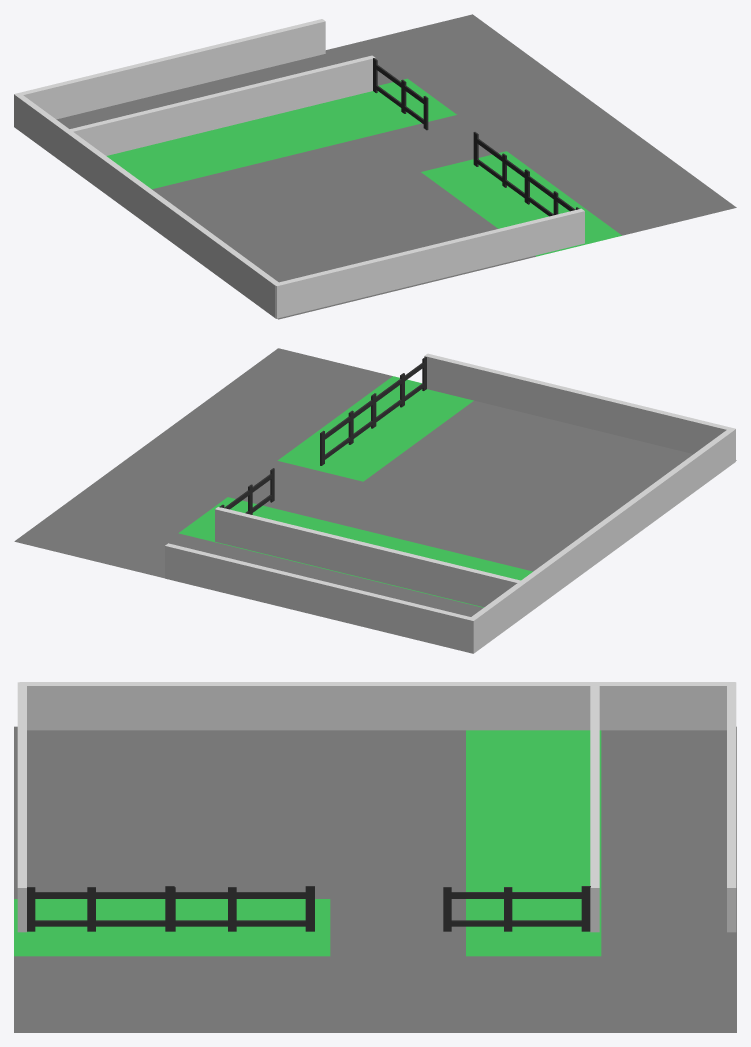
File: map.fbx
3 renders of one model, top to bottom at view 1: azimuth 30°, elevation 25°; view 2: azimuth 150°, elevation 25°; view 3: azimuth 270°, elevation 25°, orthographic. The views are drawn at different scales.
Visible parts, largest first — view 1: Plane, Cube.003, Cube.001, Cube, Cube.002, Cube.004, Cube.006, Cube.005; view 2: Plane, Cube.001, Cube, Cube.003, Cube.002, Cube.005, Cube.006, Cube.004; view 3: Plane, Cube.002, Cube.004, Cube.005, Cube.006, Cube, Cube.001, Cube.003.
Part boxes in pixels (x1,y1,x2,y2): Plane: (56,14,736,319); Cube.003: (276,208,584,318); Cube.001: (14,19,325,119); Cube: (66,55,375,155); Cube.002: (14,93,280,318); Cube.004: (373,58,428,130); Cube.006: (473,132,527,203); Cube.005: (525,169,579,216); Plane: (14,348,736,653); Cube.001: (165,543,474,653); Cube: (215,507,525,607); Cube.003: (424,353,735,461); Cube.002: (469,428,735,653); Cube.005: (371,357,426,428); Cube.006: (320,395,375,465); Cube.004: (219,468,274,514); Plane: (14,726,736,1032); Cube.002: (19,682,735,730); Cube.004: (443,886,590,931); Cube.005: (27,886,174,931); Cube.006: (167,886,314,931); Cube: (590,682,599,932); Cube.001: (727,682,736,932); Cube.003: (17,682,26,932).
Bounding box in the file's own units: 9406 × 670 × 9374.
